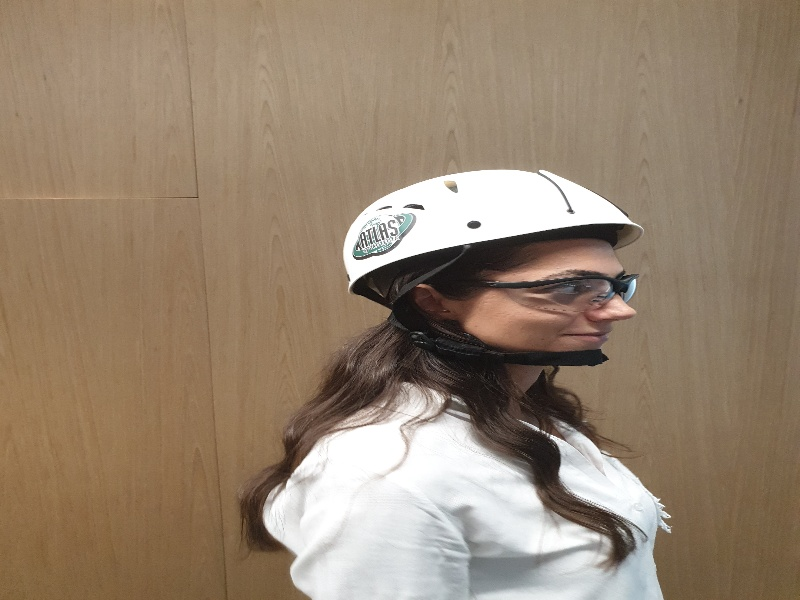Baret: (341, 169, 646, 291)
Gozluk: (441, 274, 639, 311)
